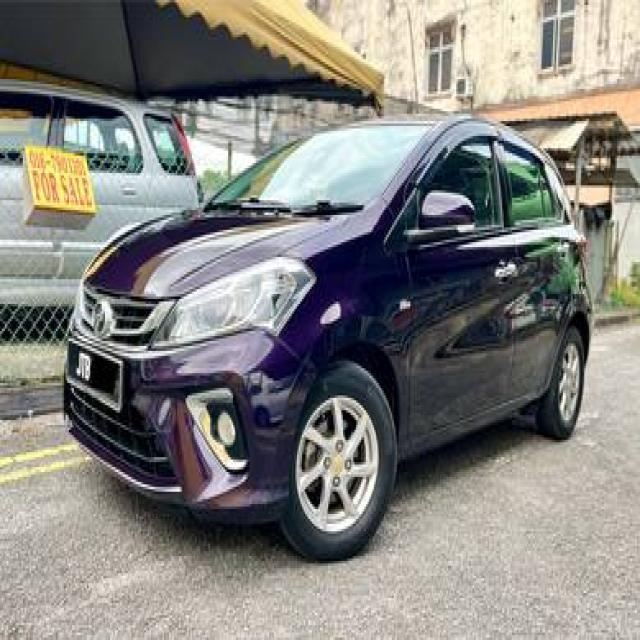PeroduaMyvi: (61, 109, 594, 561)
